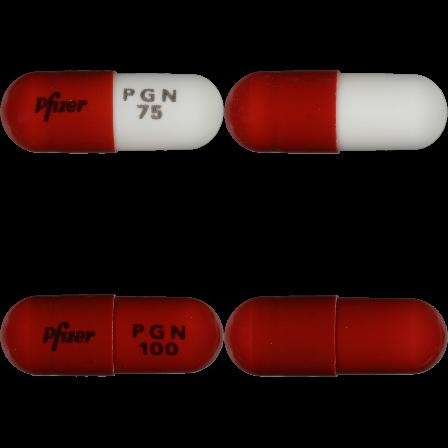0071-1014: (0, 0, 224, 224)
